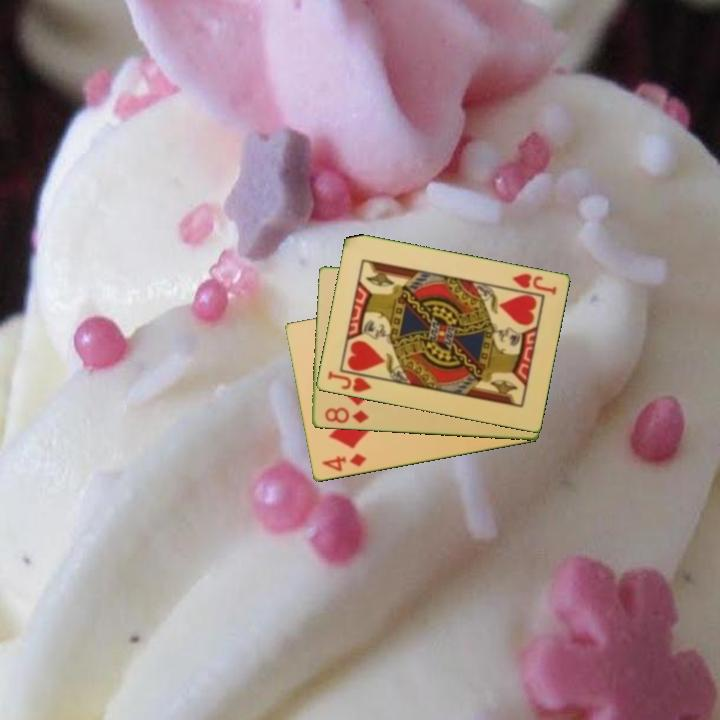4d: (318, 450, 370, 475)
8d: (321, 404, 371, 426)
Jh: (324, 367, 380, 396), (508, 270, 559, 298)
